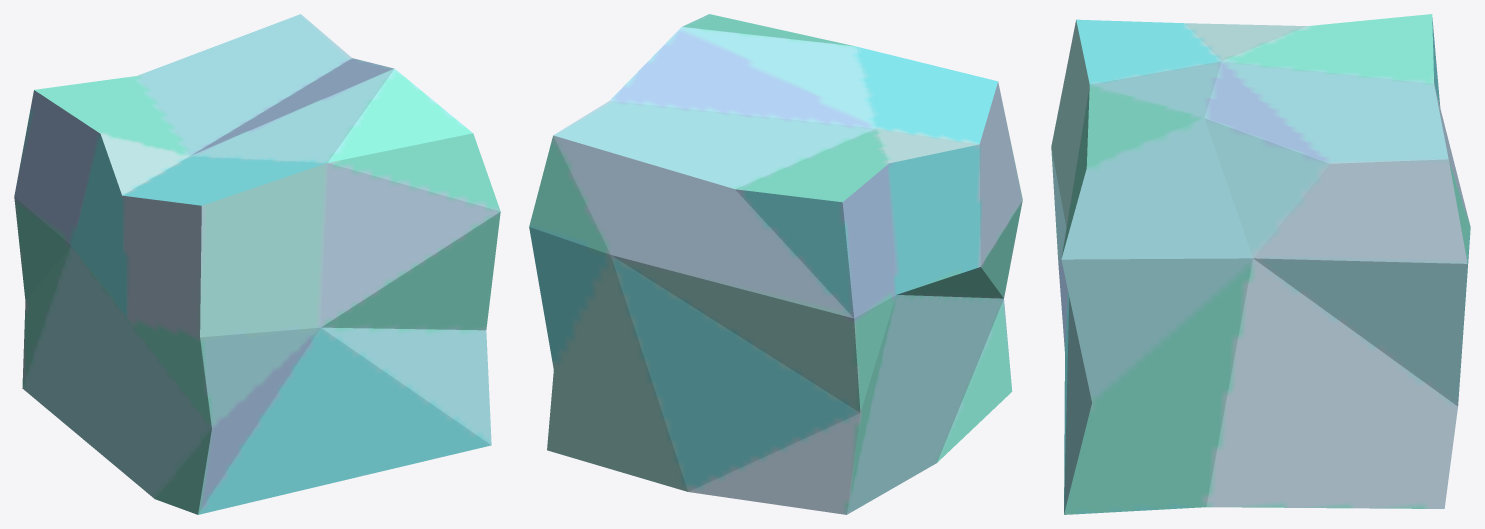
File: plataforma-gelo-escadas.fbx
3 views of the same model, side by side, from view 1: azimuth 30°, elevation 25°; view 2: azimuth 150°, elevation 25°; view 3: azimuth 270°, elevation 25° (orthographic). The views are drawn at different scales.
Parts seen in each view (by area): view 1: plataforma-gelo-escadas; view 2: plataforma-gelo-escadas; view 3: plataforma-gelo-escadas.
Part boxes in pixels (x1=…): plataforma-gelo-escadas: x1=14, y1=14, x2=500, y2=514; plataforma-gelo-escadas: x1=529, y1=14, x2=1022, y2=514; plataforma-gelo-escadas: x1=1051, y1=14, x2=1470, y2=514.
Size of the model in its own units: 123 by 128 by 118.
